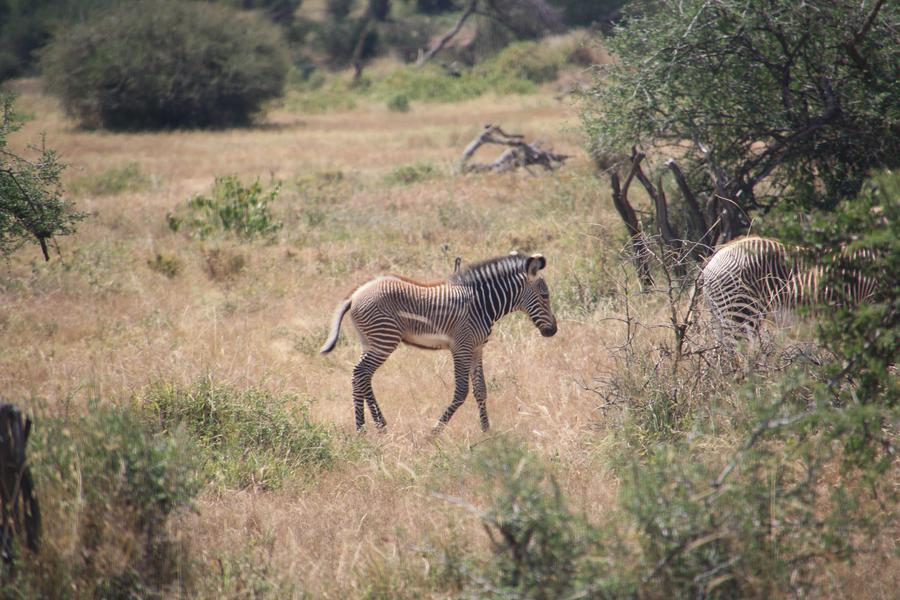zebra_grevys: (351, 272, 486, 347)
